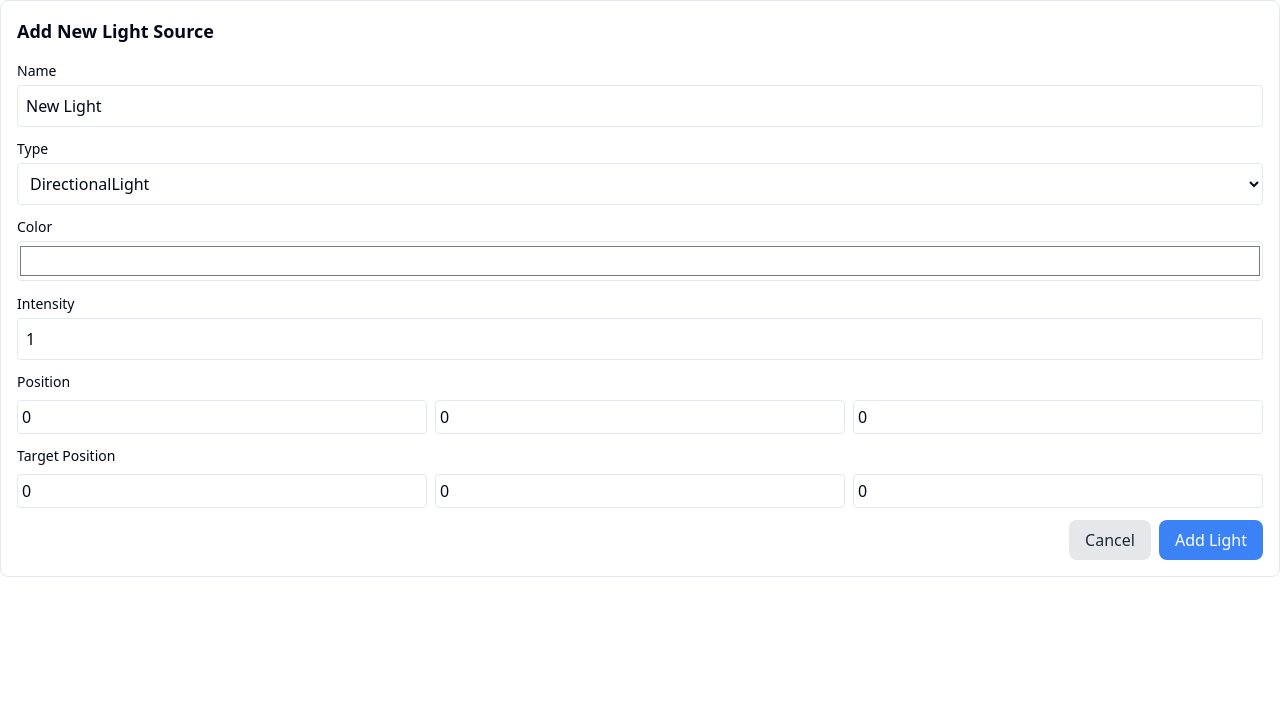
Test: LightCreator › conditionally renders target for directional light
The image size is (1280, 720).
expect the number field named "Target Position X" is shown: met, box [17,474,427,508]
Step 1. Select "AmbientLight" in the dropdown labelled "Type" → point(640, 184), box [17,163,1263,205]
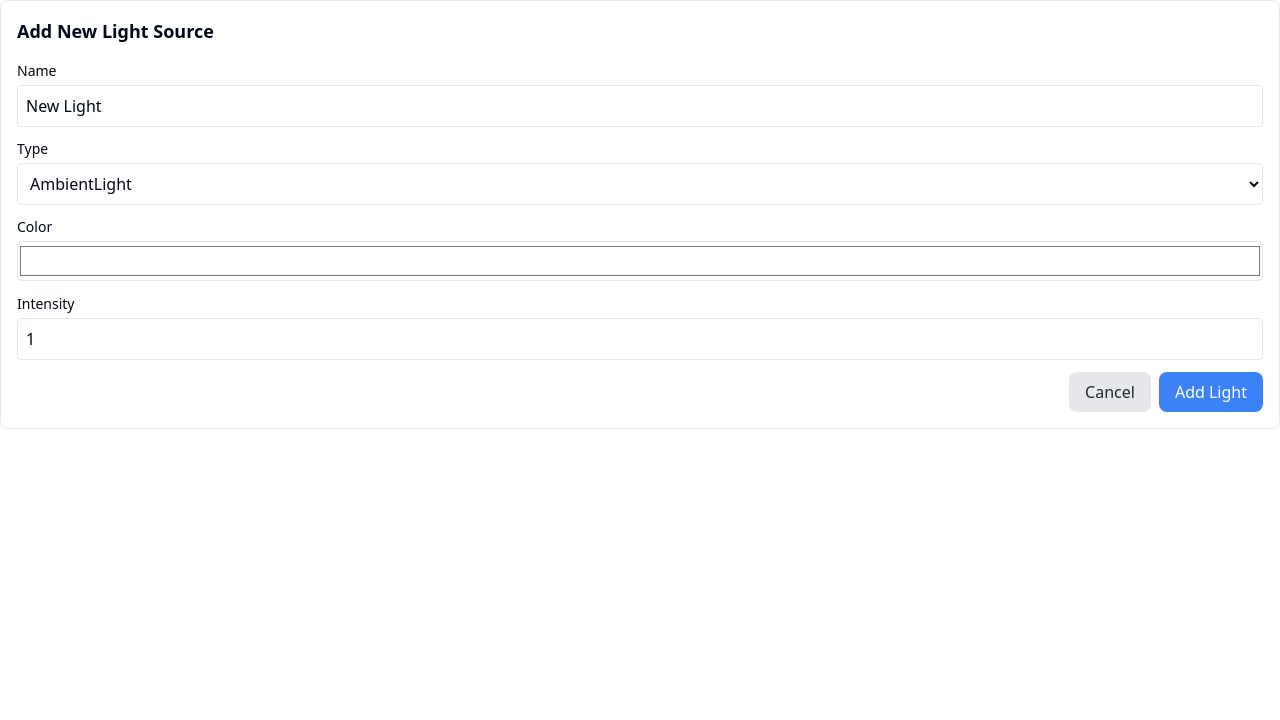
Step 2. Select "DirectionalLight" in the dropdown labelled "Type" → point(640, 184), box [17,163,1263,205]
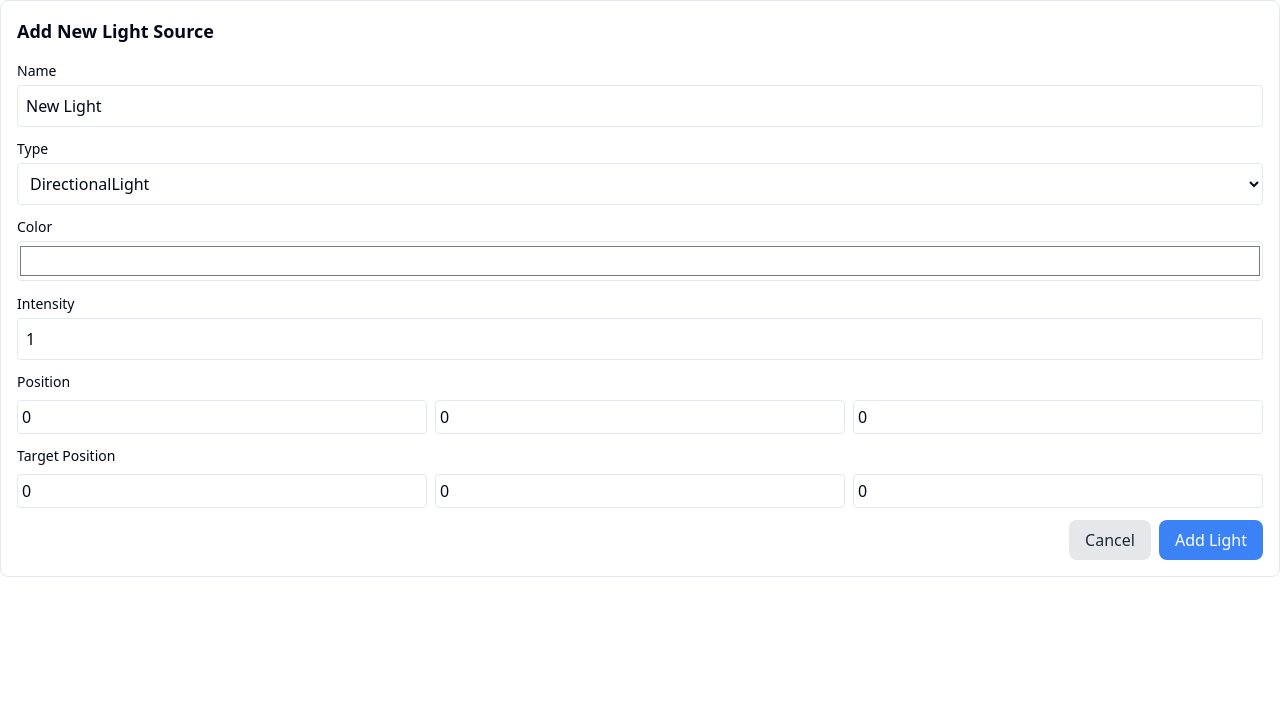
expect the number field named "Target Position X" is shown: met, box [17,474,427,508]
